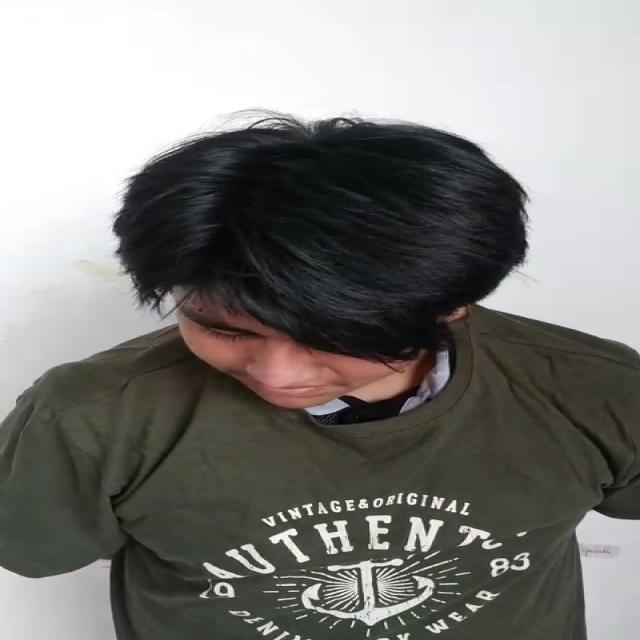9_cabeza_baja: (113, 118, 530, 408)
